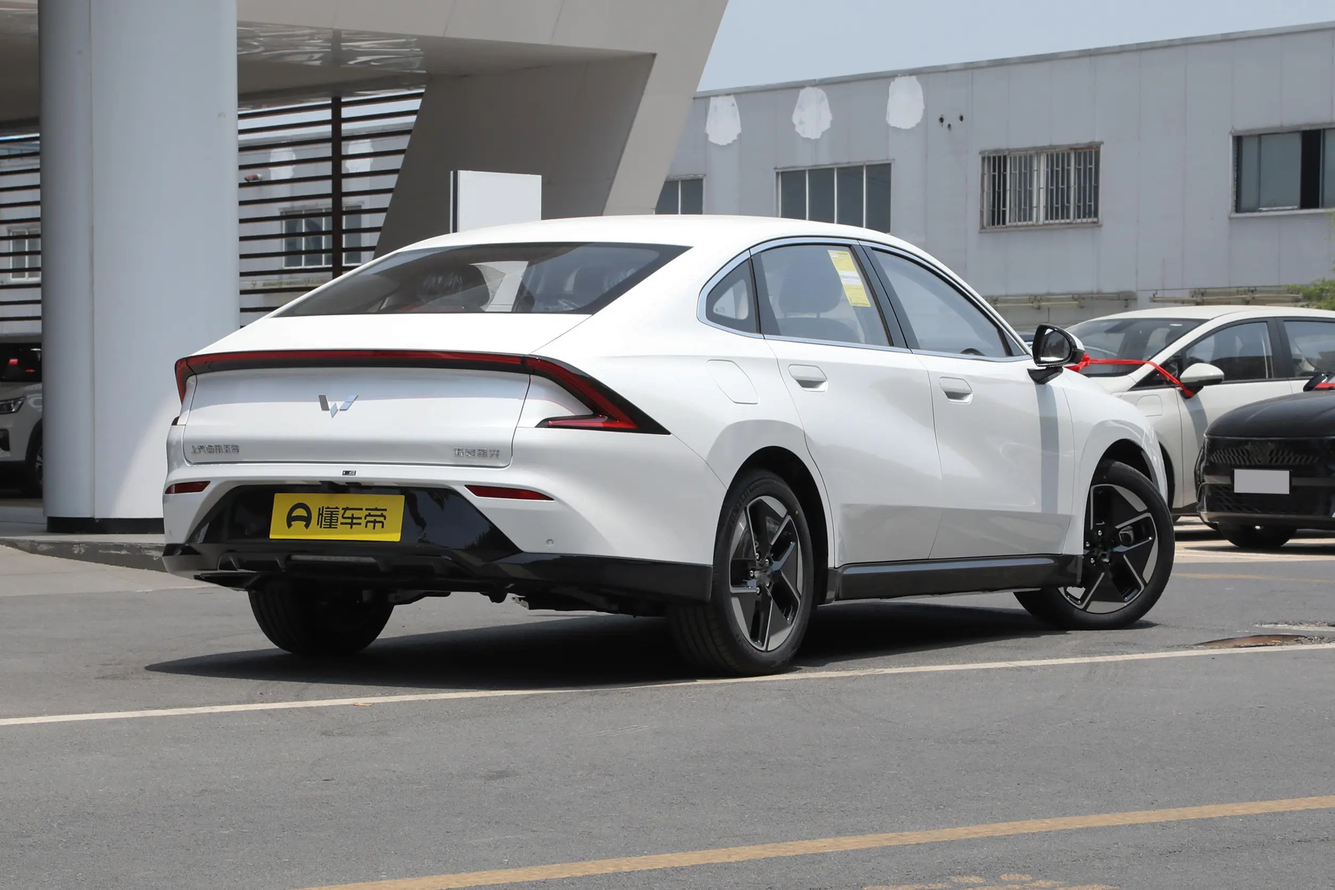SGMW: (318, 395, 357, 417)
